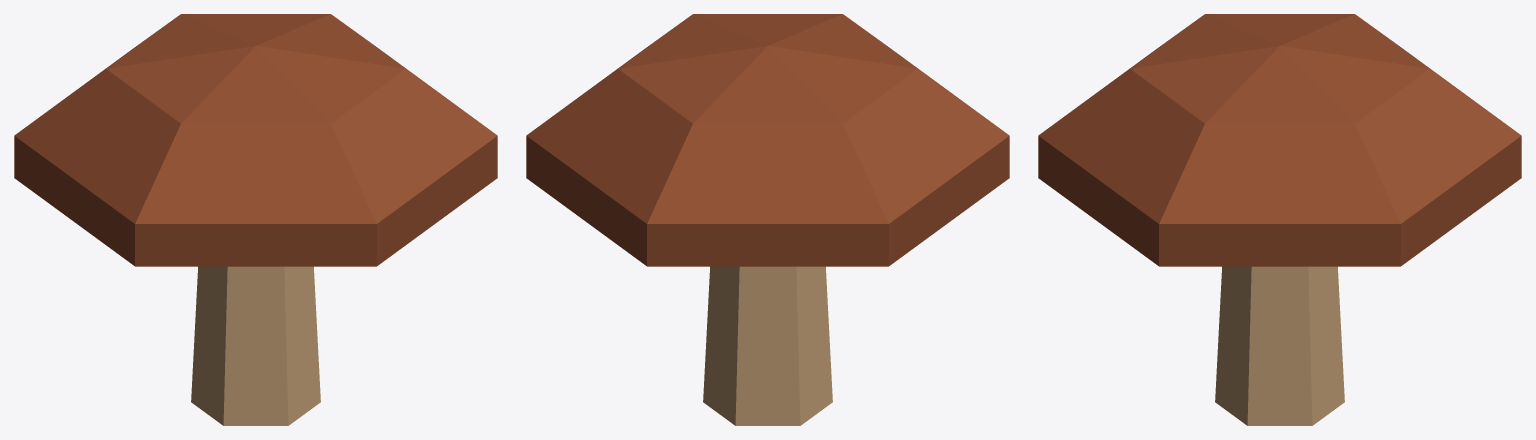
The model's file is Mushroom.fbx.
The picture shows the model from 3 angles, left to right: view 1: azimuth 30°, elevation 25°; view 2: azimuth 150°, elevation 25°; view 3: azimuth 270°, elevation 25°; orthographic projection.
Parts seen in each view (by area): view 1: Цилиндр; view 2: Цилиндр; view 3: Цилиндр.
Boxes of the visible parts, x1=… form: Цилиндр: x1=14, y1=14, x2=497, y2=425; Цилиндр: x1=526, y1=14, x2=1009, y2=425; Цилиндр: x1=1038, y1=14, x2=1521, y2=425.
Bounding box in the file's own units: 228 × 214 × 263.
